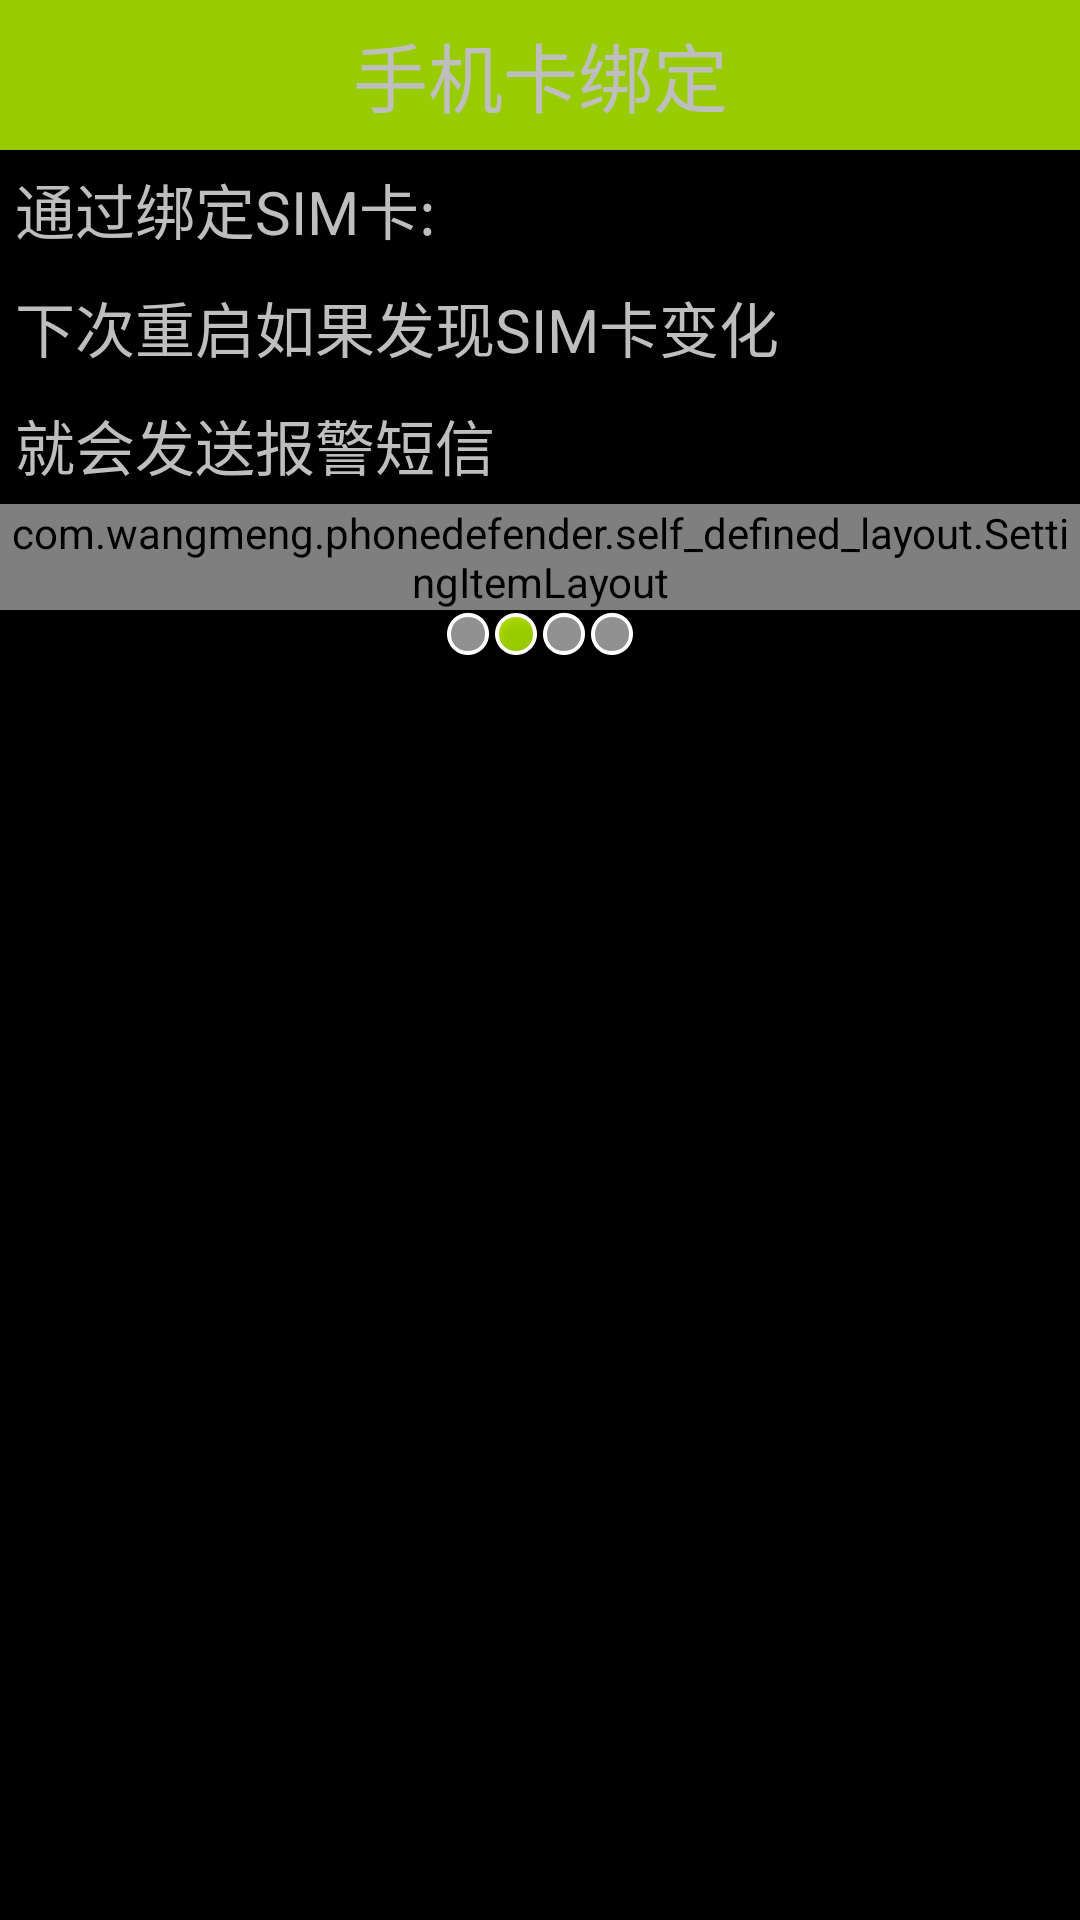

Locate icon controls on the screen. Image size 1080x1920, boxes as bbox=[x1, y1, x2, y2].
presence invisible: bbox=[447, 612, 489, 655], bbox=[543, 612, 585, 655], bbox=[591, 612, 633, 655]
presence online: bbox=[495, 613, 537, 655]
